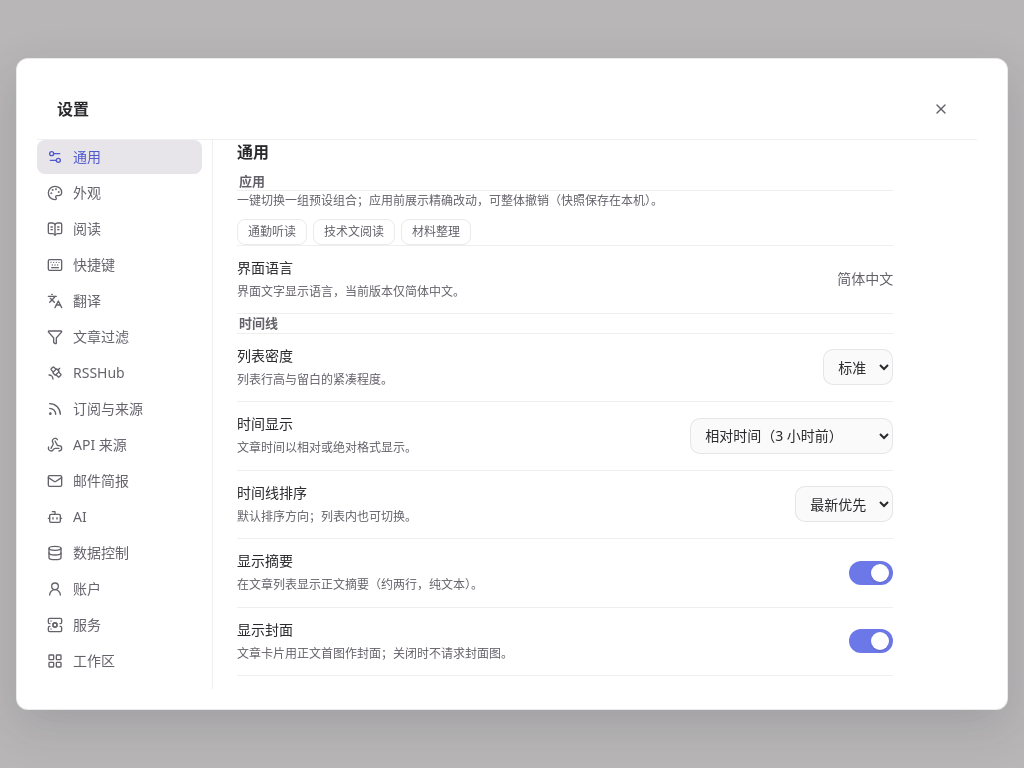
Test: SettingsModal — AC3（结构） › 导航切换 → 内容区标题与设置行切换（aria-current）
Click the button "外观" at (120,193), box [37,176,202,210]
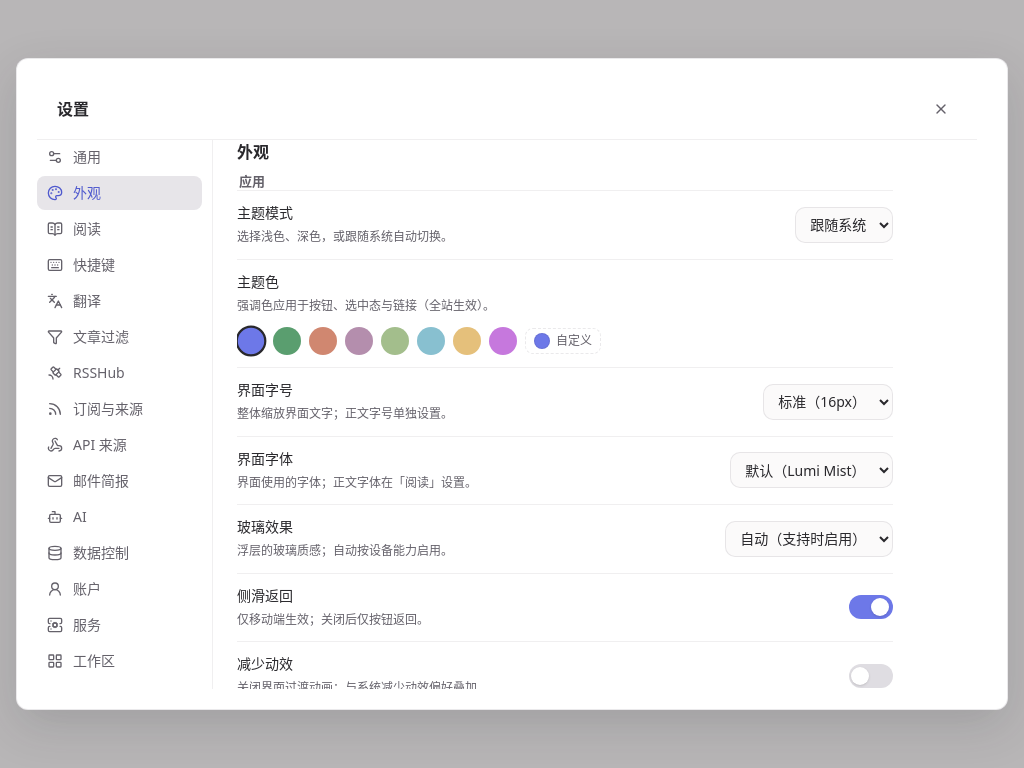
Check: the heading "外观" is shown, box [237,141,269,163]
Check: the text "主题模式" is shown, box [237,203,293,222]
# 阅读分类承载排版 Slider
Click the button "阅读" at (120,229), box [37,212,202,246]
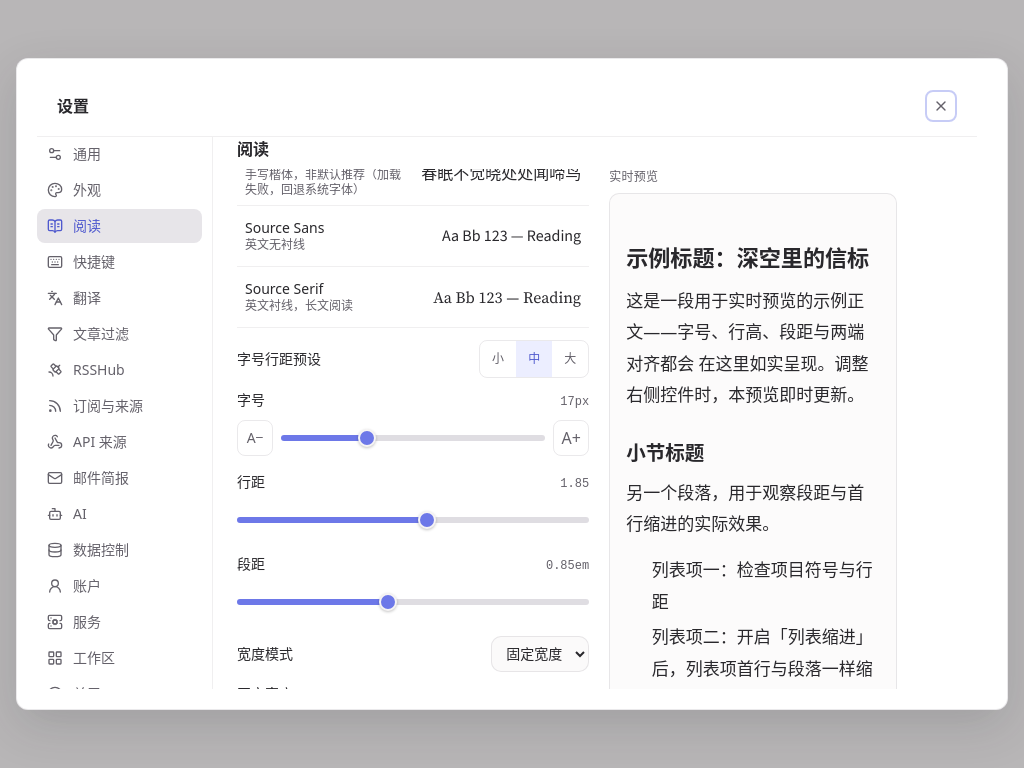
Check: the slider labelled "字号" is shown, box [281,435,545,441]
